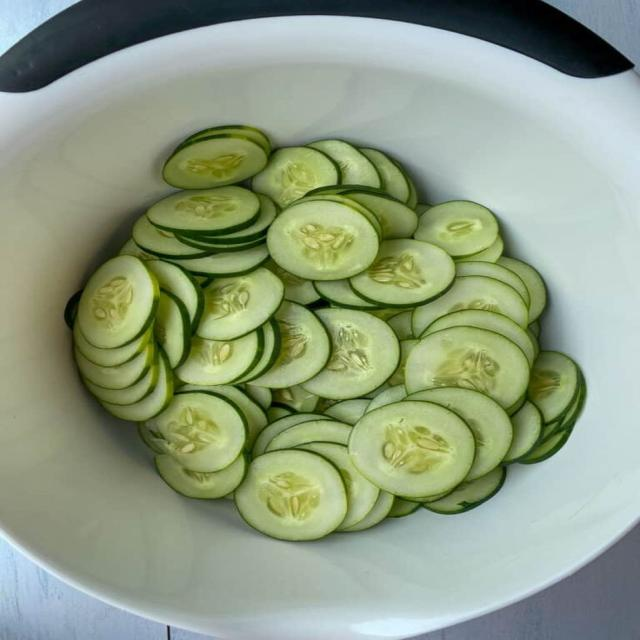cucumber sliced: (349, 401, 475, 497), (234, 450, 347, 540), (406, 327, 529, 409), (409, 387, 513, 481), (267, 199, 379, 279), (302, 308, 399, 399), (148, 391, 246, 472), (77, 256, 159, 348), (298, 442, 379, 531), (350, 240, 455, 307), (413, 276, 527, 335), (254, 301, 331, 388), (196, 268, 284, 340), (422, 310, 536, 365), (308, 185, 418, 238), (163, 134, 267, 189), (178, 385, 267, 448), (147, 186, 259, 235), (101, 347, 173, 422), (180, 194, 278, 247), (252, 147, 340, 206), (176, 328, 264, 385), (415, 201, 498, 257), (299, 187, 382, 239), (154, 455, 247, 499), (84, 351, 159, 405), (74, 341, 155, 389), (146, 261, 203, 328), (423, 468, 506, 514), (528, 351, 579, 423), (343, 191, 418, 238), (307, 139, 380, 187), (74, 324, 153, 367), (133, 216, 211, 259), (456, 261, 530, 306), (252, 413, 326, 457), (171, 244, 268, 277), (497, 257, 546, 322), (234, 318, 280, 383), (154, 290, 191, 368), (266, 419, 352, 452), (360, 148, 411, 202), (174, 125, 271, 153), (503, 402, 542, 463), (266, 261, 319, 305), (340, 491, 394, 532), (176, 233, 266, 257), (314, 280, 378, 309), (519, 429, 572, 463), (388, 339, 419, 386), (560, 374, 586, 430), (456, 235, 503, 262), (325, 398, 370, 425), (274, 386, 319, 412), (365, 385, 406, 413), (397, 162, 418, 210), (119, 239, 159, 261), (387, 310, 414, 340), (139, 423, 164, 454), (244, 384, 272, 411), (387, 497, 420, 518), (64, 290, 82, 328), (418, 489, 454, 503), (267, 404, 294, 422), (525, 327, 540, 357), (364, 382, 389, 400), (367, 308, 399, 321), (192, 276, 213, 289), (415, 203, 433, 216), (528, 320, 540, 338)
